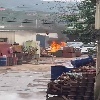fire: (47, 41, 66, 52)
